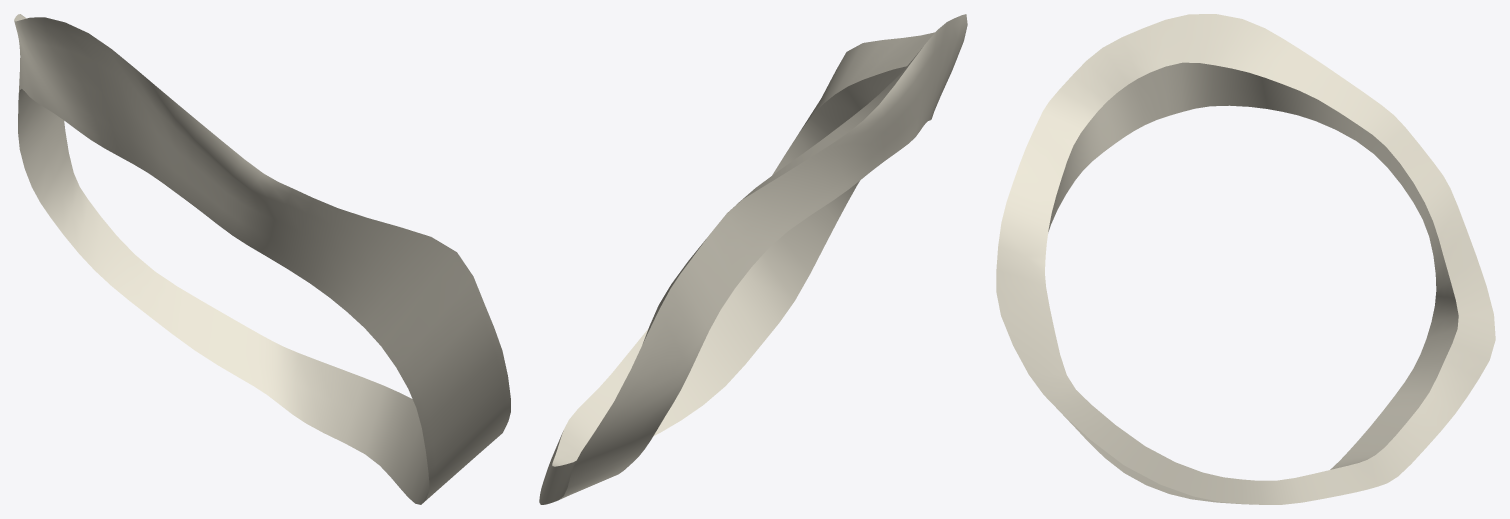
The picture shows the model from 3 angles, left to right: view 1: azimuth 30°, elevation 25°; view 2: azimuth 150°, elevation 25°; view 3: azimuth 270°, elevation 25°; orthographic projection. The views are drawn at different scales.
Parts seen in each view (by area): view 1: ZA_7d133108dfa40bf4; view 2: ZA_7d133108dfa40bf4; view 3: ZA_7d133108dfa40bf4.
Part boxes in pixels (left/top/right/bottom): ZA_7d133108dfa40bf4: left=14, top=14, right=510, bottom=504; ZA_7d133108dfa40bf4: left=539, top=14, right=967, bottom=504; ZA_7d133108dfa40bf4: left=996, top=14, right=1495, bottom=504.
Size of the model in its own units: 0.0353 by 0.0478 by 0.0573.
